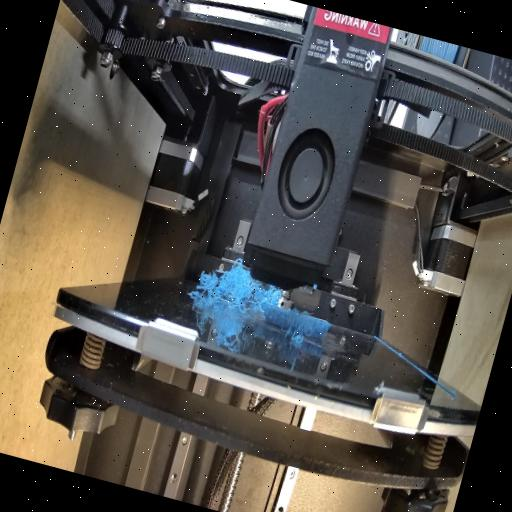spaghetti: (190, 255, 284, 320), (275, 303, 319, 349)
